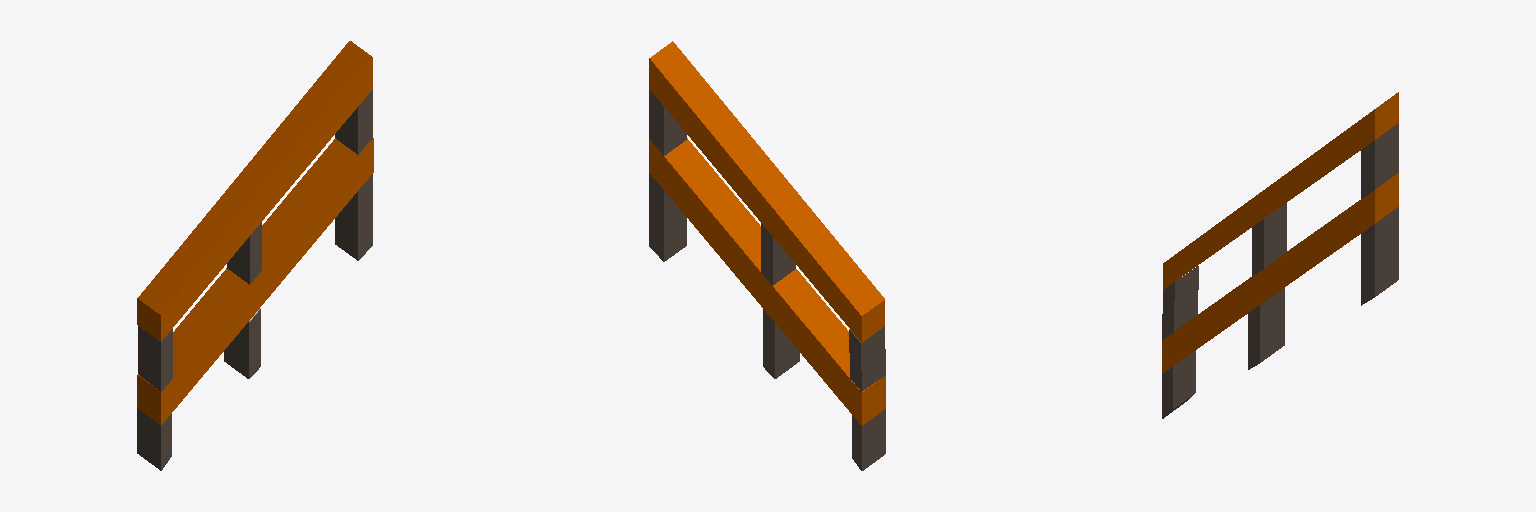
Rendered from zabradlie3.obj.
3 renders of one model, left to right at view 1: azimuth 30°, elevation 25°; view 2: azimuth 150°, elevation 25°; view 3: azimuth 330°, elevation 25°, orthographic.
Parts seen in each view (by area): view 1: Mesh1 Model; view 2: Mesh1 Model; view 3: Mesh1 Model.
Boxes of the visible parts, <box> form: Mesh1 Model: <box>137,41,373,470</box>; Mesh1 Model: <box>649,41,885,470</box>; Mesh1 Model: <box>1162,92,1398,418</box>.
Size of the model in its own units: 2.12 by 3.44 by 0.4262.